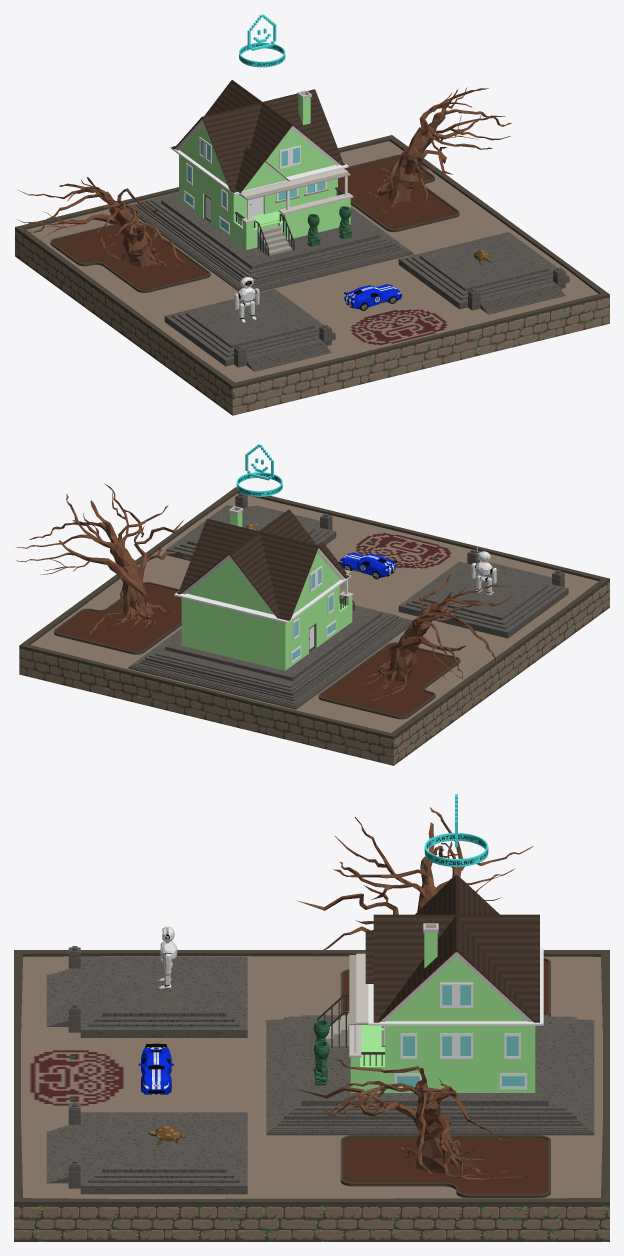
The picture shows the model from 3 angles, top to bottom: view 1: azimuth 30°, elevation 25°; view 2: azimuth 150°, elevation 25°; view 3: azimuth 270°, elevation 25°; orthographic projection. The views are drawn at different scales.
Parts seen in each view (by area): view 1: Cube.011, Cube.274, VEHICLES_RACING_CAR, TYPE_PREMIUM, OBJRANDOM_PLATZEEBOT; view 2: Cube.011, Cube.274, VEHICLES_RACING_CAR, TYPE_PREMIUM, OBJRANDOM_PLATZEEBOT; view 3: Cube.011, Cube.274, VEHICLES_RACING_CAR, TYPE_PREMIUM, OBJRANDOM_PLATZEEBOT.
Part boxes in pixels (<box>): Cube.011: <box>15,87,609,415</box>; Cube.274: <box>170,80,353,256</box>; VEHICLES_RACING_CAR: <box>344,284,401,310</box>; TYPE_PREMIUM: <box>239,14,285,67</box>; OBJRANDOM_PLATZEEBOT: <box>234,272,259,322</box>; Cube.011: <box>16,483,609,765</box>; Cube.274: <box>174,506,354,670</box>; VEHICLES_RACING_CAR: <box>339,552,396,579</box>; TYPE_PREMIUM: <box>236,444,282,496</box>; OBJRANDOM_PLATZEEBOT: <box>471,547,496,595</box>; Cube.011: <box>14,807,609,1241</box>; Cube.274: <box>317,875,543,1092</box>; VEHICLES_RACING_CAR: <box>138,1043,173,1094</box>; TYPE_PREMIUM: <box>424,794,488,866</box>; OBJRANDOM_PLATZEEBOT: <box>159,926,177,988</box>.
Size of the model in its own units: 5099 by 2475 by 4000.
38 materials, 6 textured.
